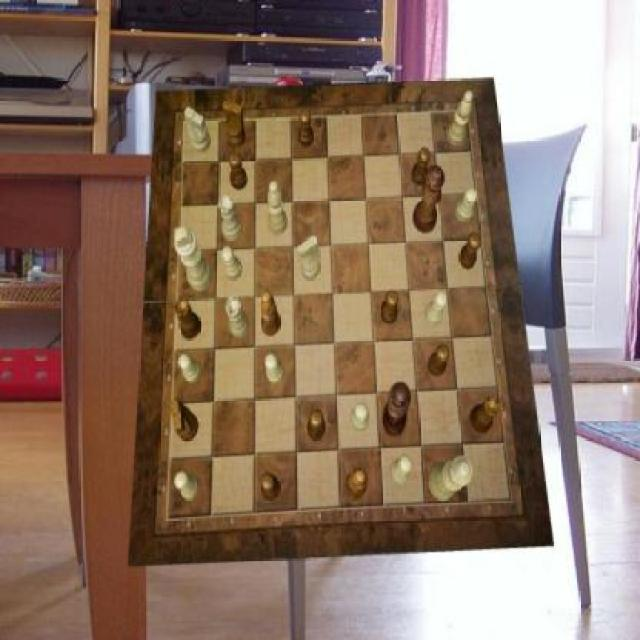bishop: (262, 291, 282, 337), (344, 468, 368, 502)
black-bishop: (383, 382, 411, 436)
black-king: (171, 398, 198, 441), (223, 100, 246, 148)
black-knight: (458, 232, 481, 270), (428, 345, 450, 377), (230, 152, 248, 190), (412, 148, 430, 186), (306, 409, 326, 442), (298, 109, 314, 148), (382, 290, 399, 324), (260, 472, 280, 500)
black-pawn: (414, 166, 446, 234)
black-queen: (471, 395, 502, 433), (174, 298, 201, 340)
black-rook: (448, 91, 474, 145), (268, 182, 288, 236)
white-bishop: (174, 226, 213, 292)
white-king: (184, 108, 212, 154), (298, 235, 321, 281)
white-knight: (424, 291, 448, 325), (455, 189, 478, 223), (175, 471, 200, 500), (223, 246, 243, 281), (178, 354, 202, 383), (389, 456, 412, 486), (264, 354, 284, 386), (351, 403, 370, 431)
white-pawn: (429, 455, 474, 501)
white-queen: (218, 195, 242, 241), (224, 297, 248, 338)
